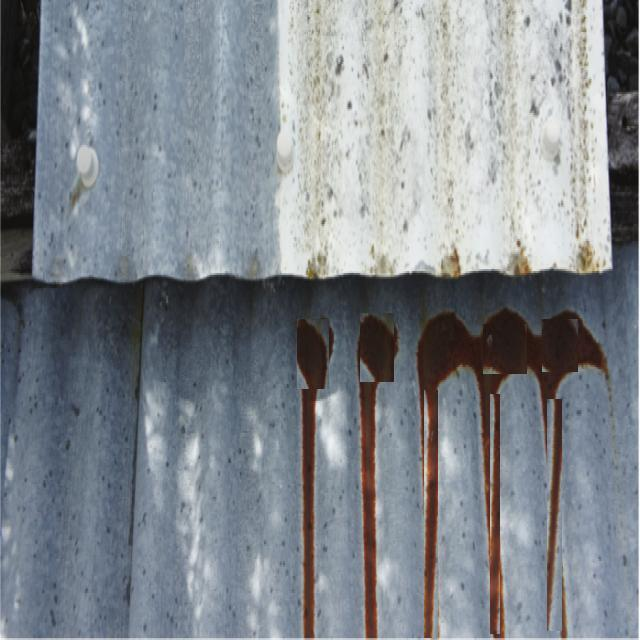Corrosion: (419, 309, 609, 639), (358, 314, 399, 638), (297, 319, 334, 462), (302, 389, 318, 640)
